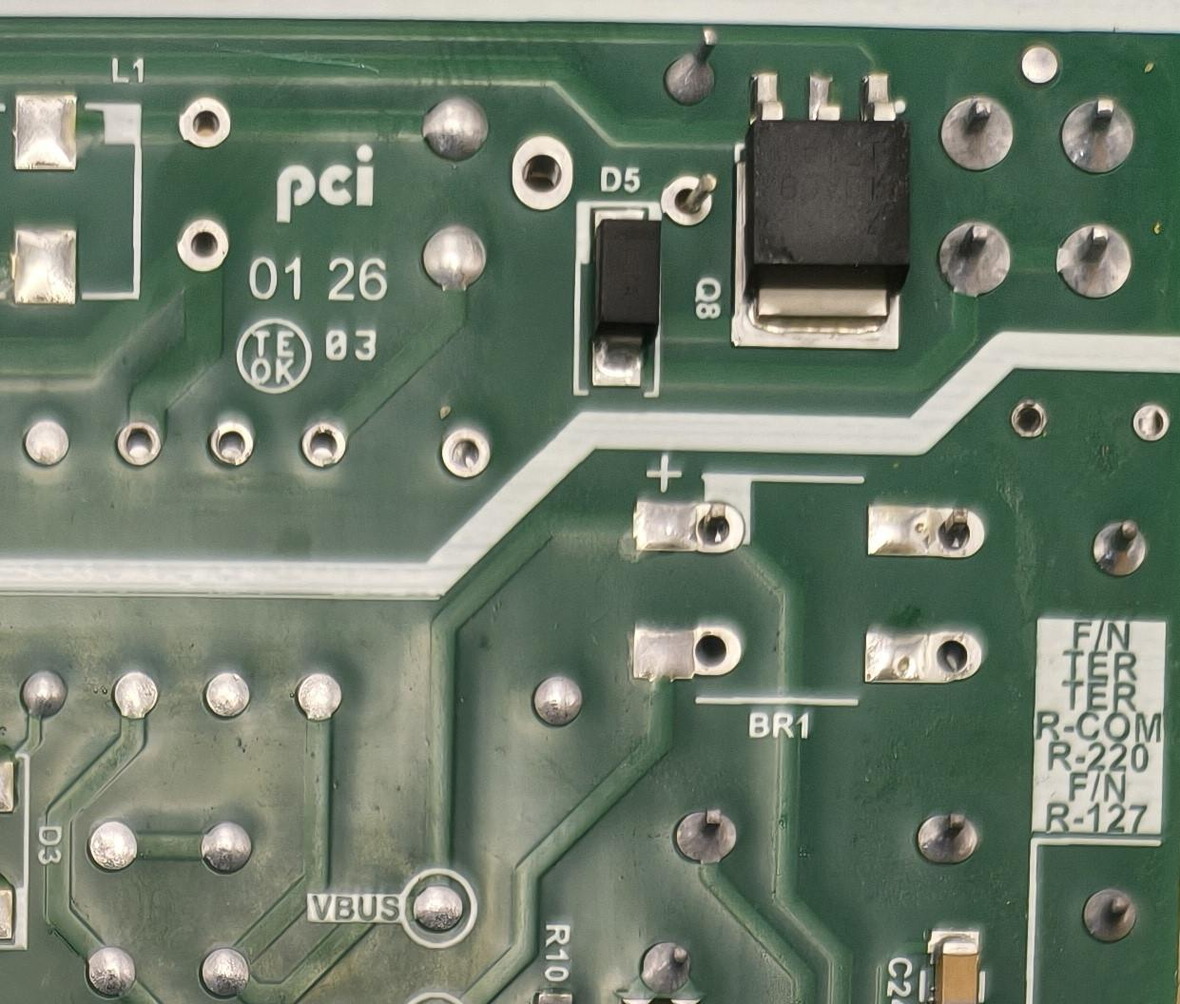Soldagem+: (930, 84, 1044, 173), (1044, 87, 1135, 194), (938, 201, 1023, 305), (1052, 209, 1140, 302), (1074, 875, 1169, 957), (652, 33, 717, 128), (902, 808, 986, 871), (622, 931, 698, 992), (674, 795, 747, 858), (1092, 518, 1155, 577)
SoldagemFaltando: (853, 489, 1000, 564), (624, 483, 755, 563), (657, 173, 721, 232)
